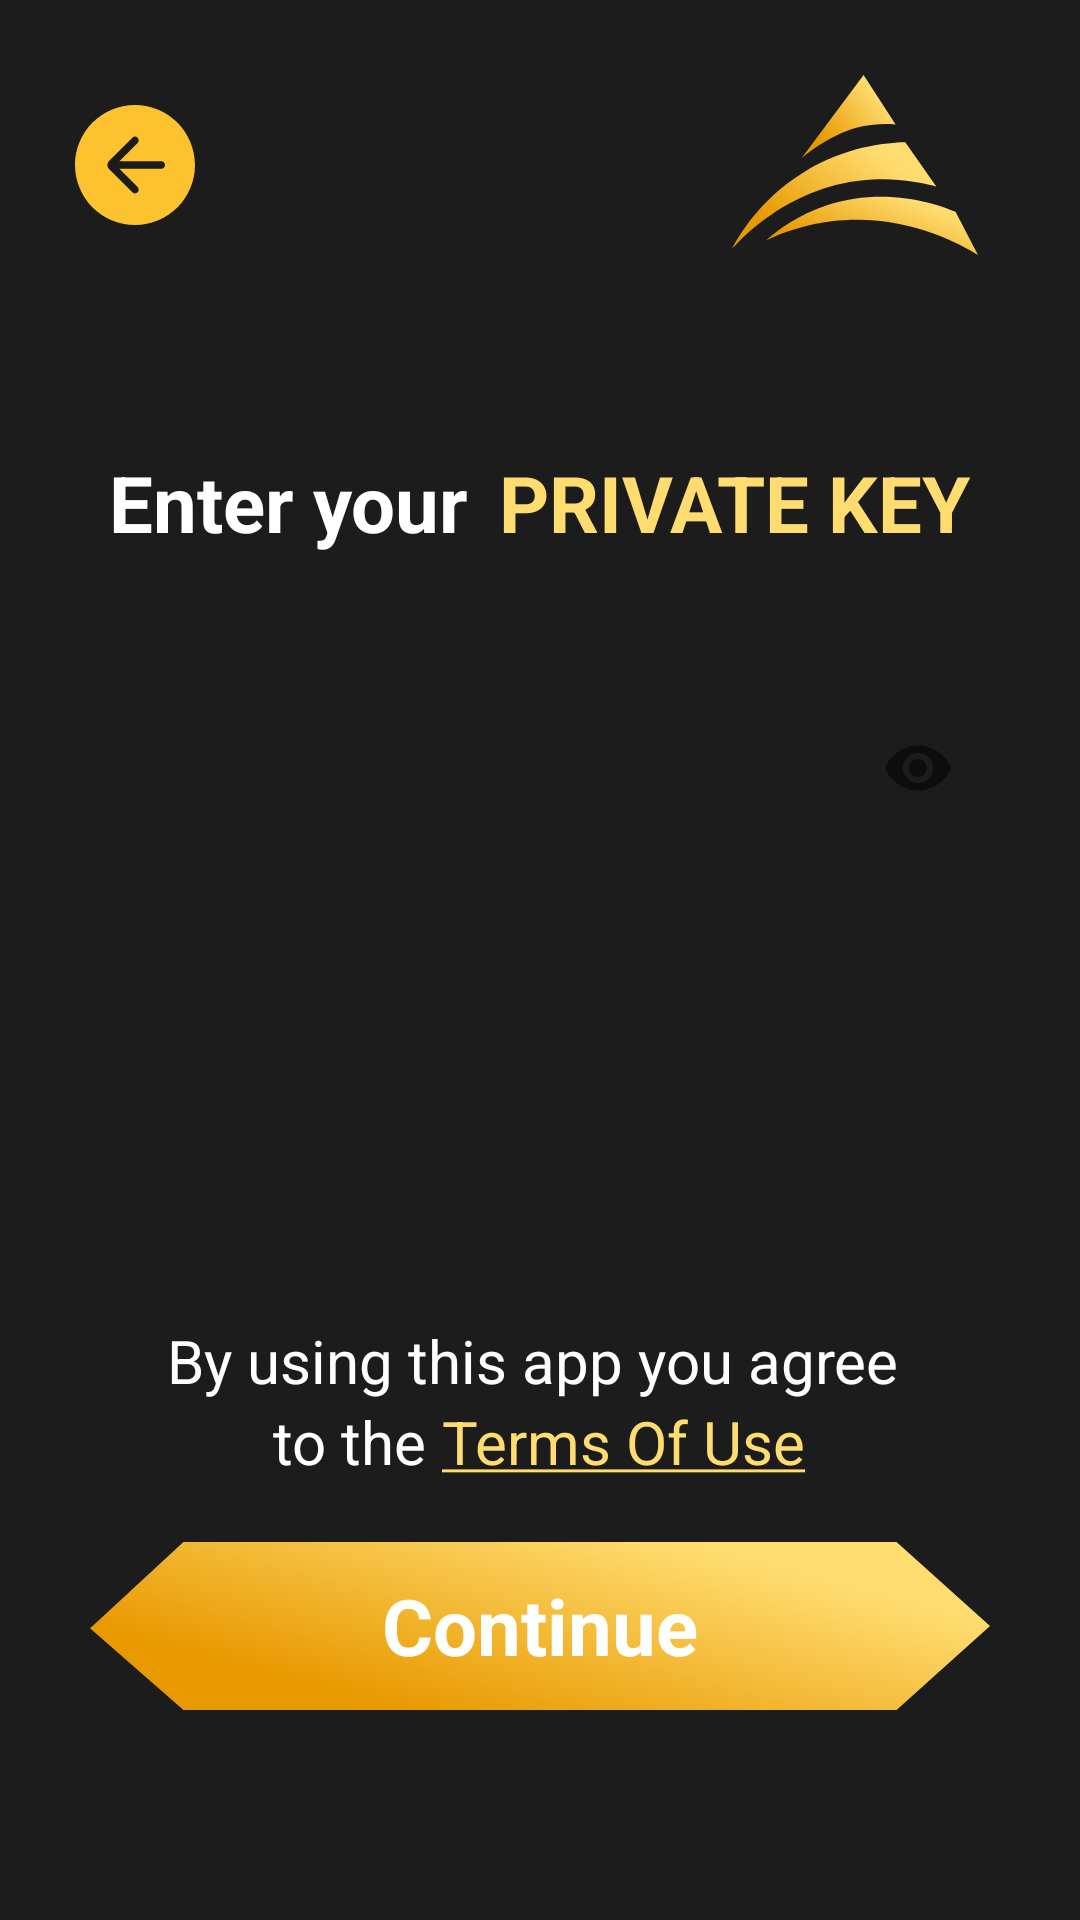

Where icons sit on this 1080px x 1920px app screen, as (x1, y1, x2, y2):
back: (75, 105, 195, 225)
